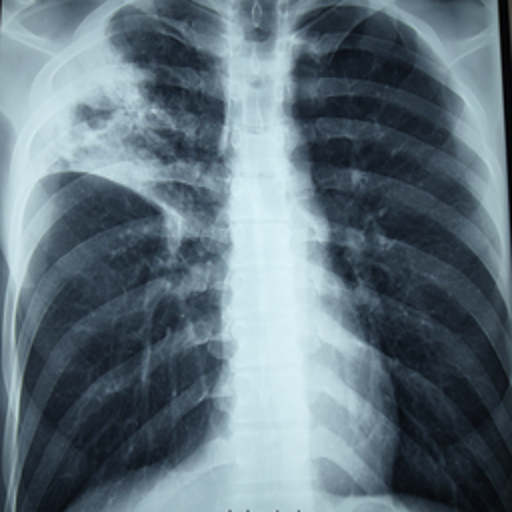TB: (38, 27, 192, 255)
